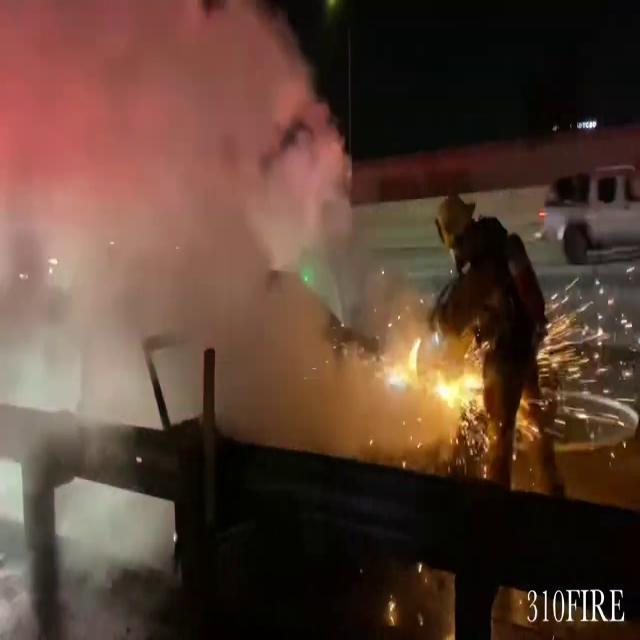Smoke: (0, 0, 421, 437)
